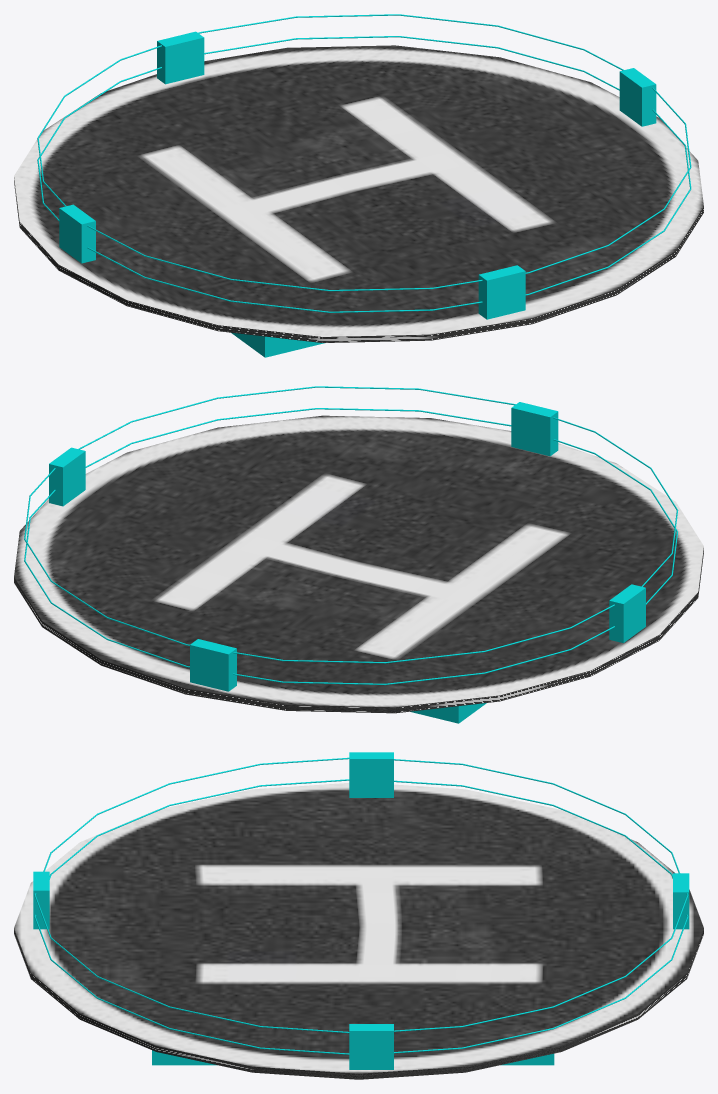
Rendered from Helipad.fbx.
3 renders of one model, top to bottom at view 1: azimuth 30°, elevation 25°; view 2: azimuth 150°, elevation 25°; view 3: azimuth 270°, elevation 25°, orthographic.
Visible parts, largest first — view 1: Helipad1; view 2: Helipad1; view 3: Helipad1.
Part boxes in pixels (<box>): Helipad1: <box>14,14,703,357</box>; Helipad1: <box>14,386,703,723</box>; Helipad1: <box>14,752,703,1079</box>.
Bounding box in the file's own units: 487 × 62.92 × 487.
2 materials, 1 textured.
